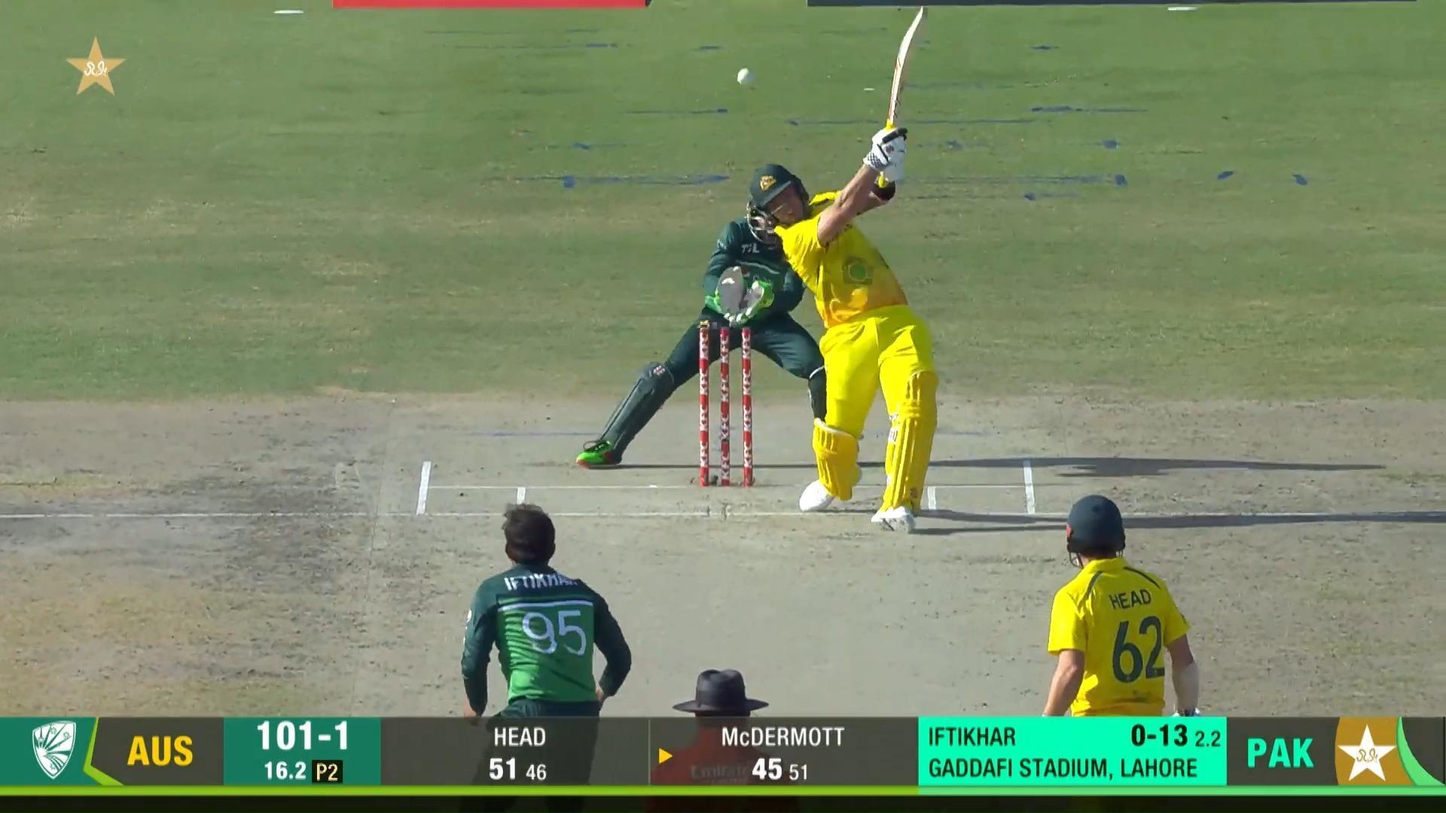BM 1: (750, 0, 941, 537)
BO: (459, 504, 633, 788)
